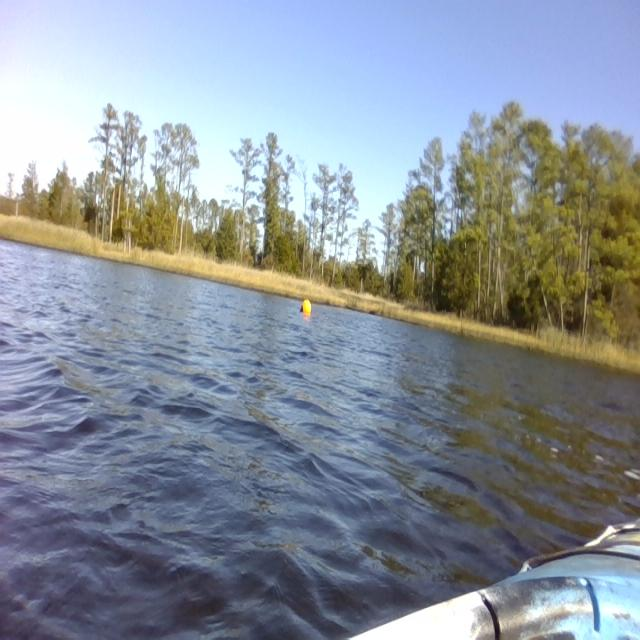Buoy: (299, 294, 313, 317)
